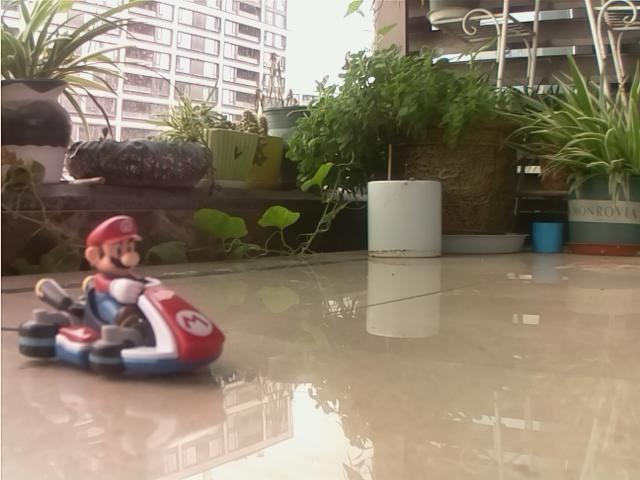mario: (13, 214, 235, 388)
